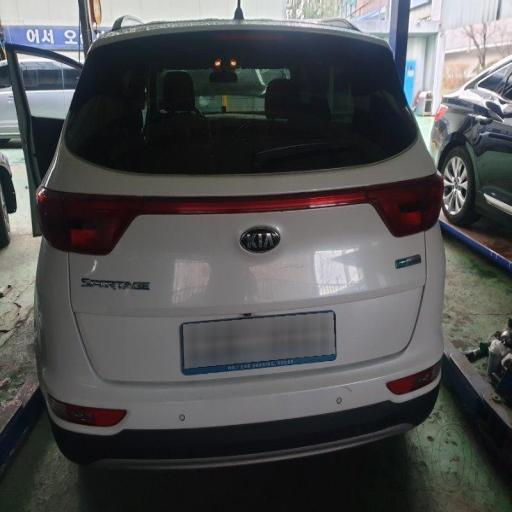dent: (145, 360, 414, 412)
